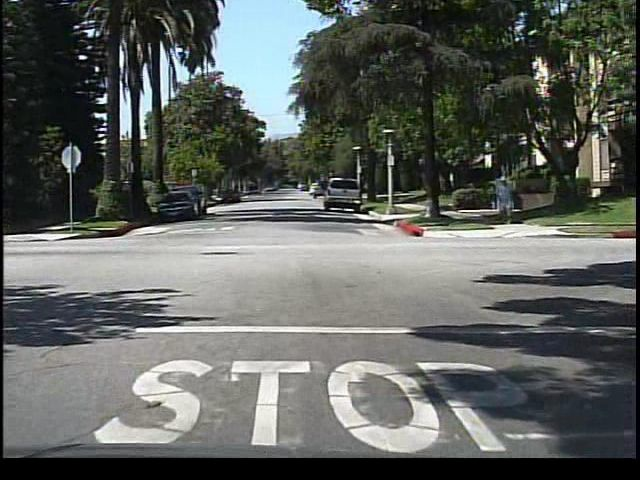person: (492, 171, 518, 225)
